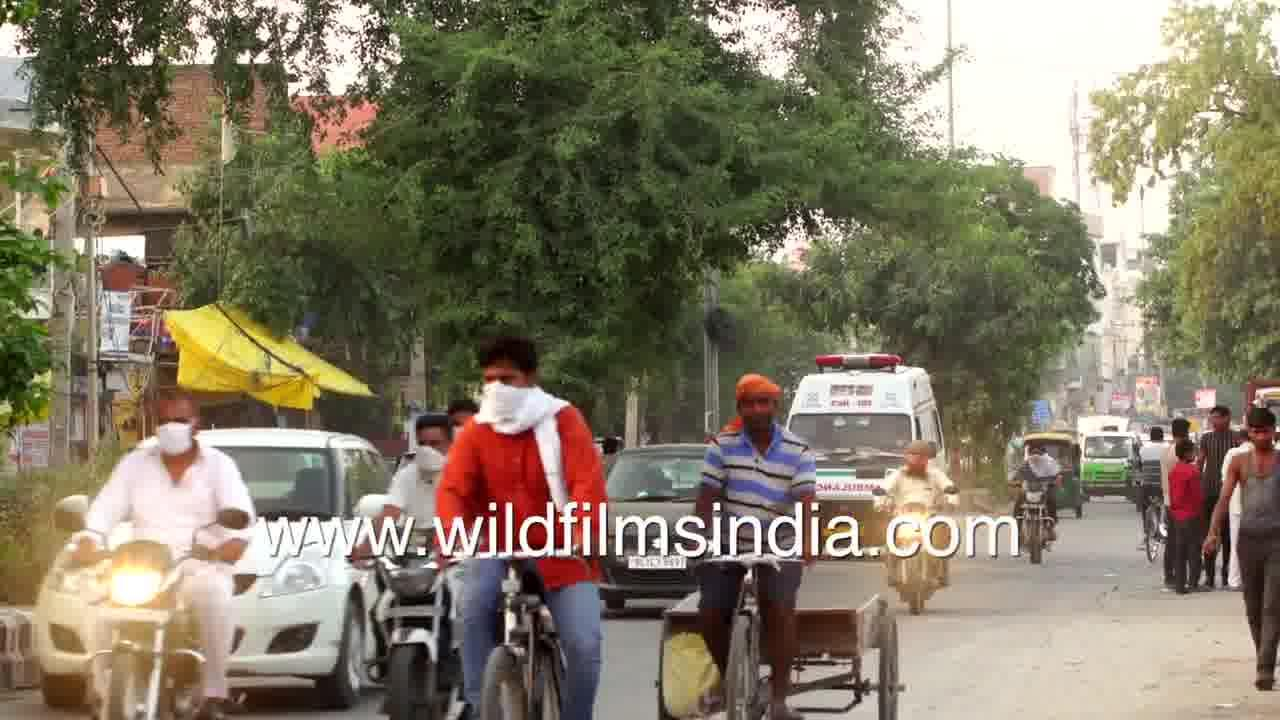AMBULANCE: (777, 342, 954, 455)
